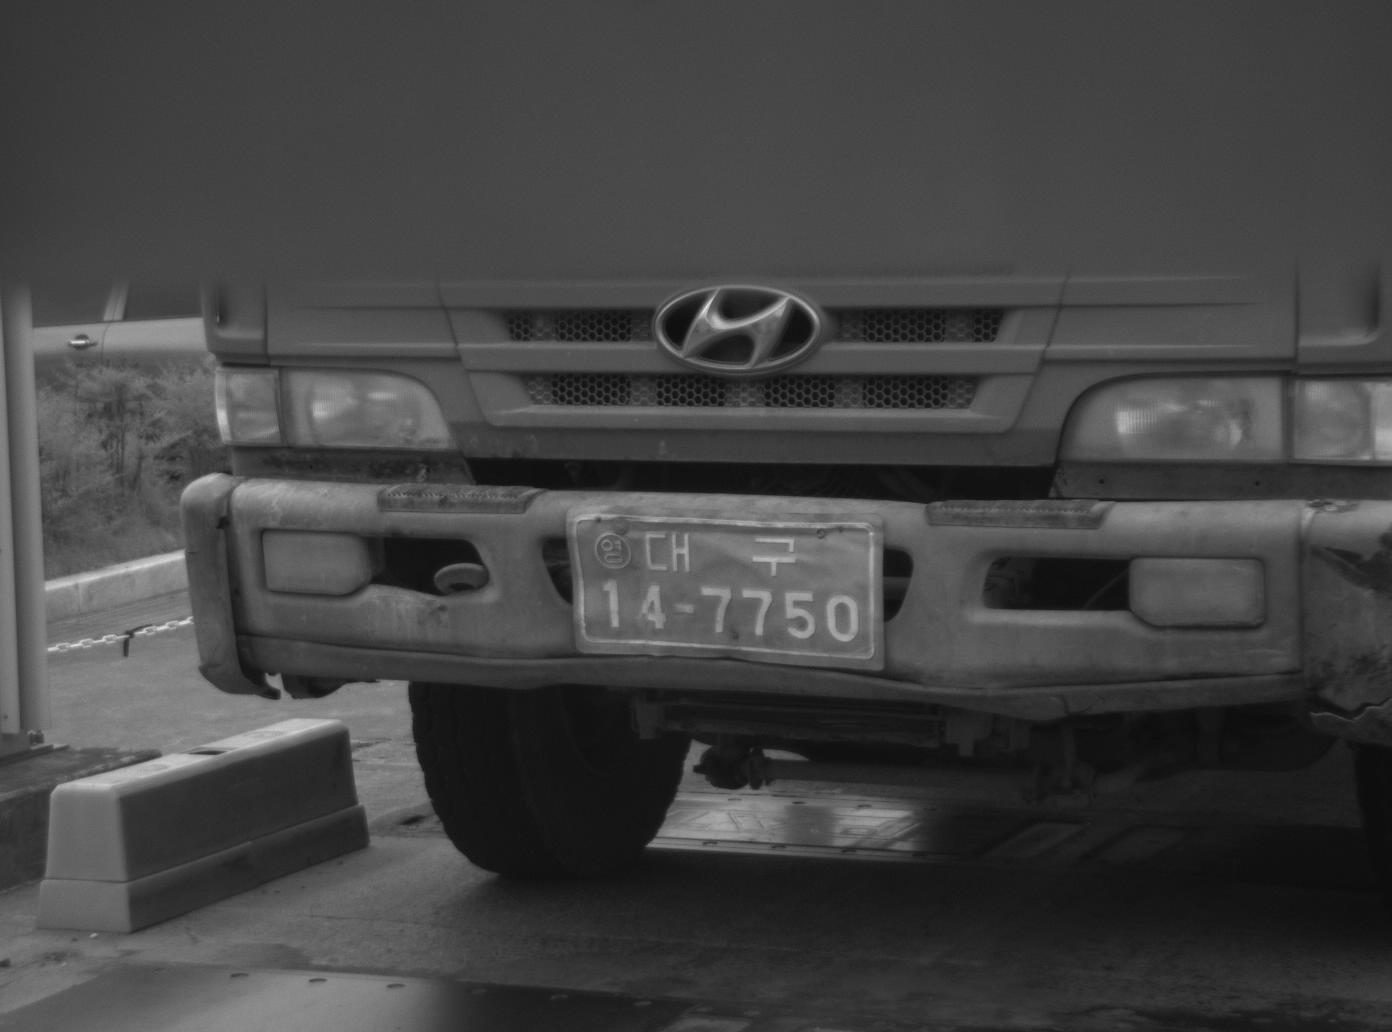car: (173, 253, 1390, 880)
plate: (567, 506, 883, 667)
